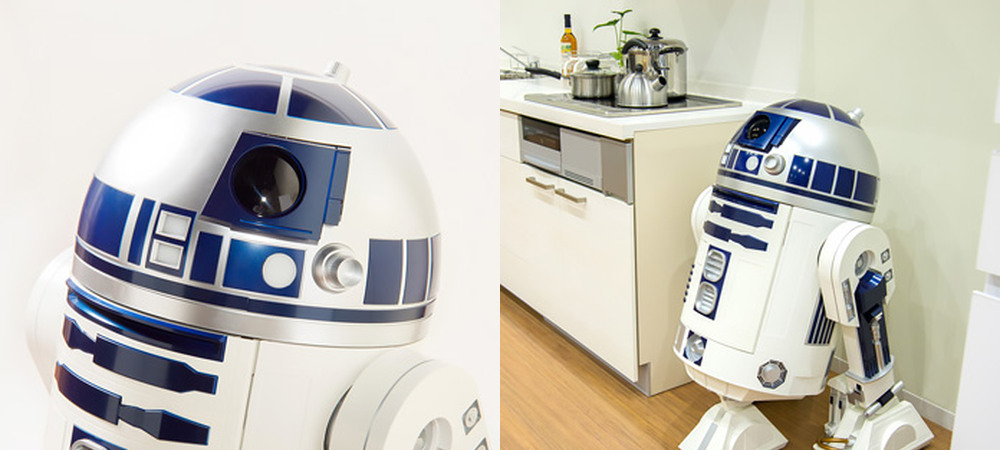r2d2: (33, 58, 488, 449), (679, 100, 942, 449)
